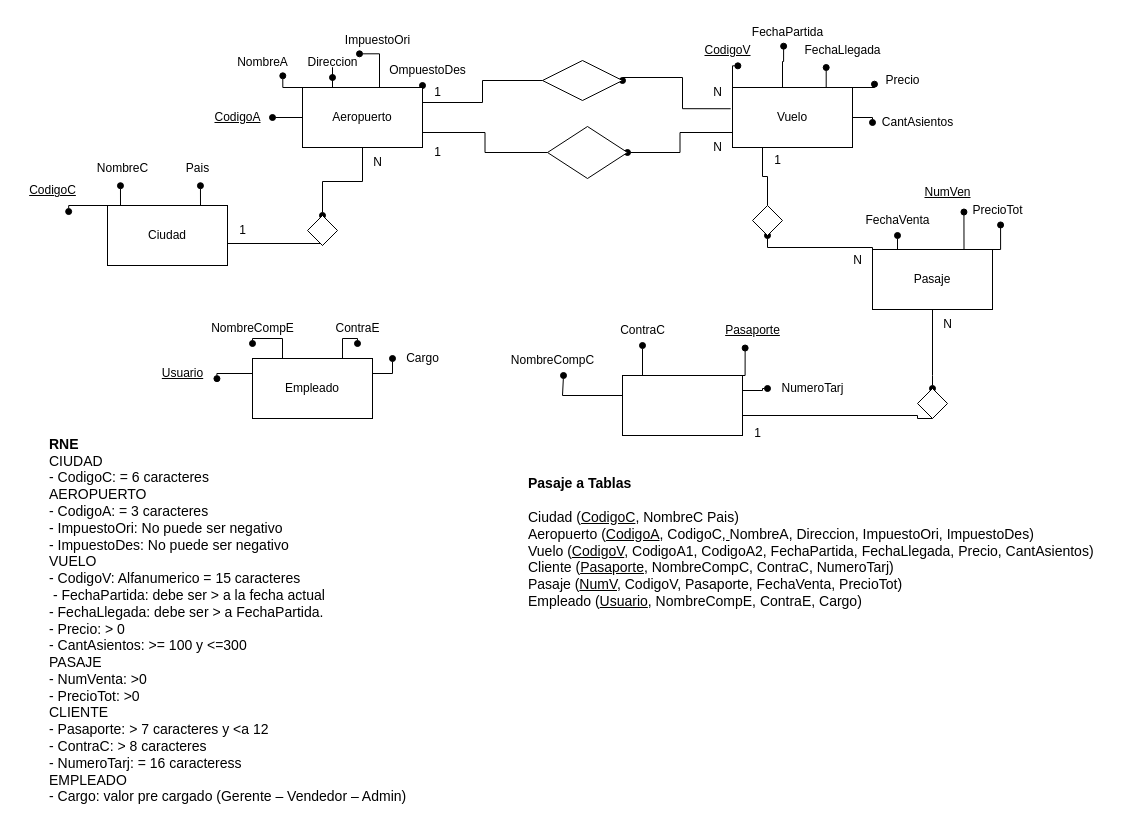
This 1133x827 diagram has some shape labels left out. The shapes that lost their labels are listed below. From the top down, each one's centre as x and y in pixels, then its label:
At pixel 582 80: "Destino".
At pixel 587 152: "Partida".
At pixel 682 405: "Cliente".
